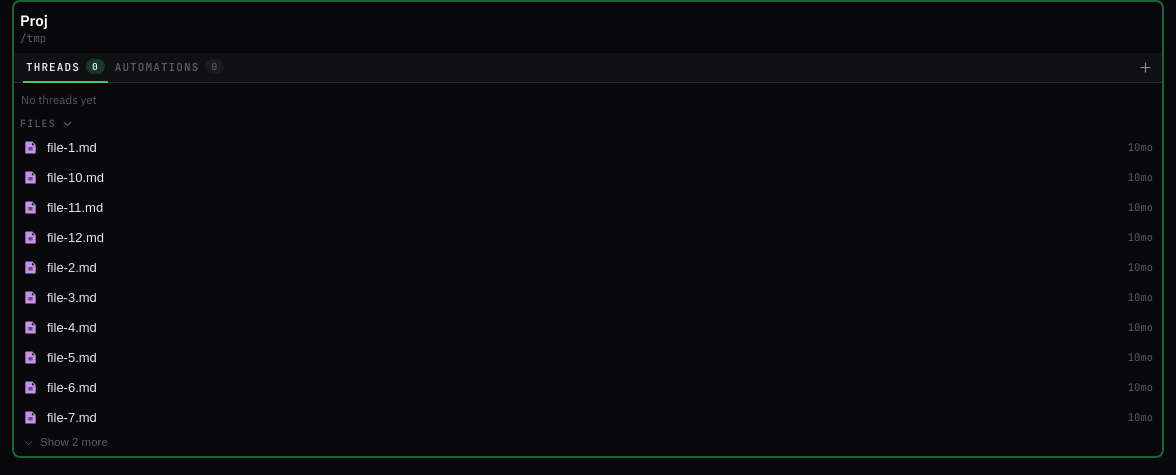
Test: a closed shelf hides its Show-more expander too
Check: the button "Show 2 more" is shown, box [14,432,1162,452]
Click the button with aria-label "Collapse files". click: (46, 124)
box: [20,117,73,130]
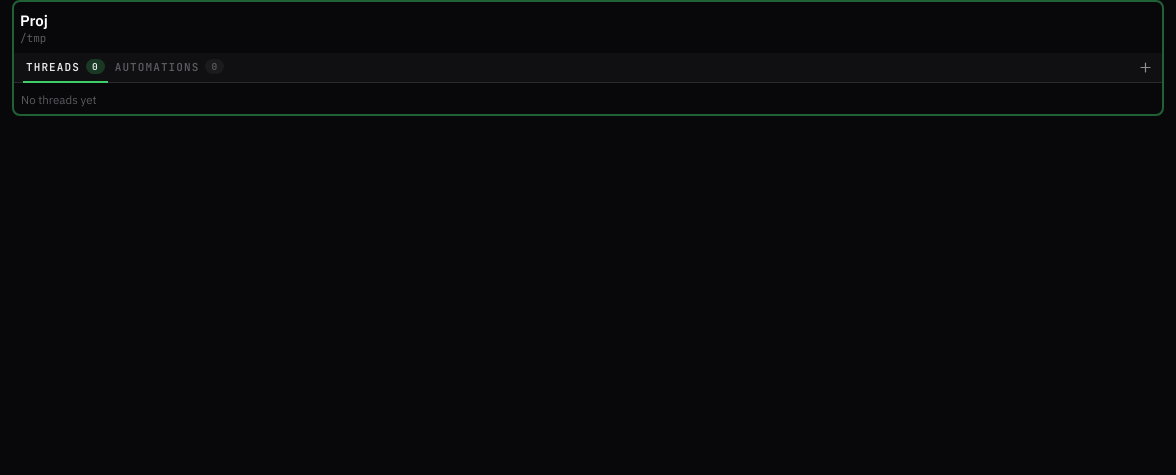
Check: the button "Show 2 more" is gone
